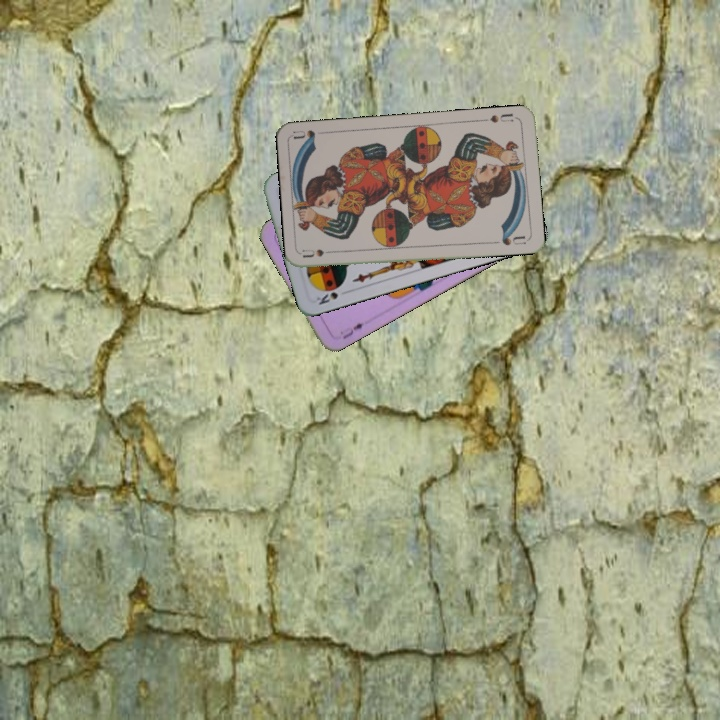EU: (338, 319, 367, 342)
SK: (312, 286, 351, 307)
SU: (299, 245, 340, 260), (479, 109, 516, 125)
